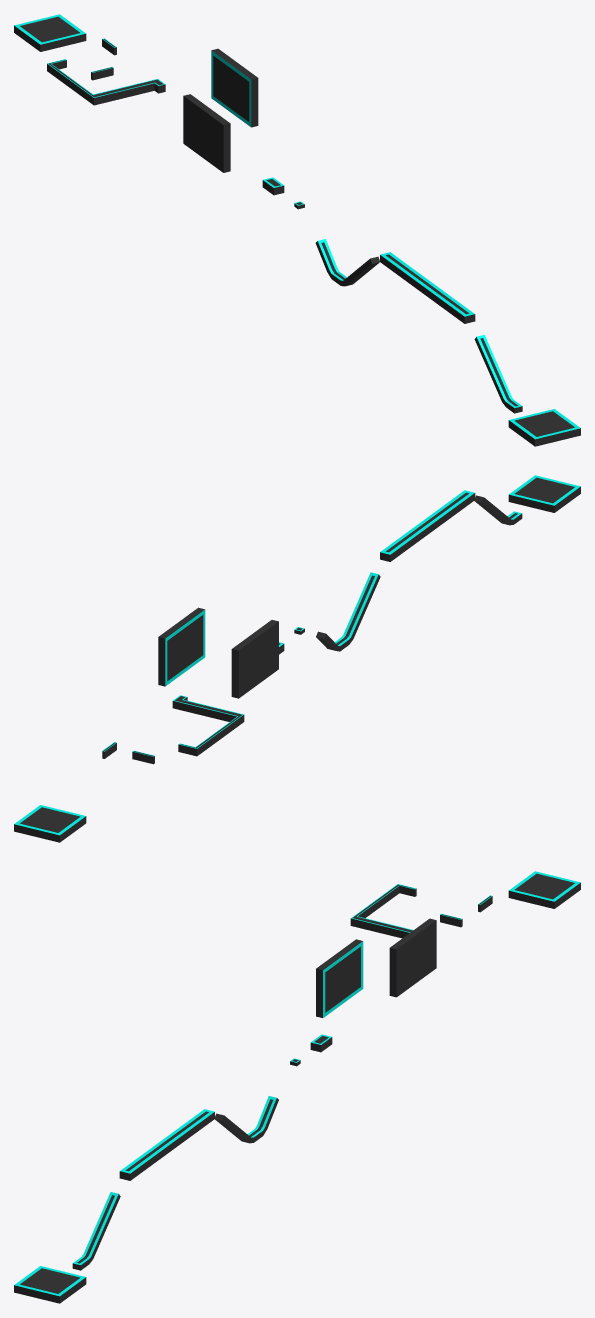
File: Level3.fbx
3 renders of one model, top to bottom at view 1: azimuth 30°, elevation 25°; view 2: azimuth 150°, elevation 25°; view 3: azimuth 330°, elevation 25°, orthographic.
Parts seen in each view (by area): view 1: Platform.007, Platform, Start, Ziel, Platform.001, Platform.008, Platform.002, Platform.003; view 2: Platform.007, Platform, Start, Ziel, Platform.001, Platform.008, Platform.003, Platform.002; view 3: Platform, Platform.007, Start, Ziel, Platform.001, Platform.008, Platform.002, Platform.003.
Part boxes in pixels (bbox=[...]): Platform.007: bbox=[183, 94, 230, 172]; Platform: bbox=[211, 48, 258, 127]; Start: bbox=[508, 409, 580, 446]; Ziel: bbox=[14, 14, 86, 51]; Platform.001: bbox=[380, 252, 475, 323]; Platform.008: bbox=[47, 59, 165, 105]; Platform.002: bbox=[474, 335, 522, 413]; Platform.003: bbox=[315, 239, 379, 286]; Platform.007: bbox=[231, 620, 278, 698]; Platform: bbox=[158, 607, 205, 686]; Start: bbox=[508, 475, 580, 512]; Ziel: bbox=[14, 805, 86, 842]; Platform.001: bbox=[380, 490, 475, 561]; Platform.008: bbox=[172, 695, 244, 756]; Platform.003: bbox=[316, 572, 380, 651]; Platform.002: bbox=[474, 495, 522, 525]; Platform: bbox=[389, 918, 436, 997]; Platform.007: bbox=[316, 939, 363, 1017]; Start: bbox=[14, 1266, 86, 1303]; Ziel: bbox=[508, 871, 580, 908]; Platform.001: bbox=[119, 1109, 214, 1180]; Platform.008: bbox=[350, 884, 416, 938]; Platform.002: bbox=[72, 1192, 120, 1270]; Platform.003: bbox=[215, 1096, 278, 1143].
Size of the model in its own units: 140 by 146 by 1201.
